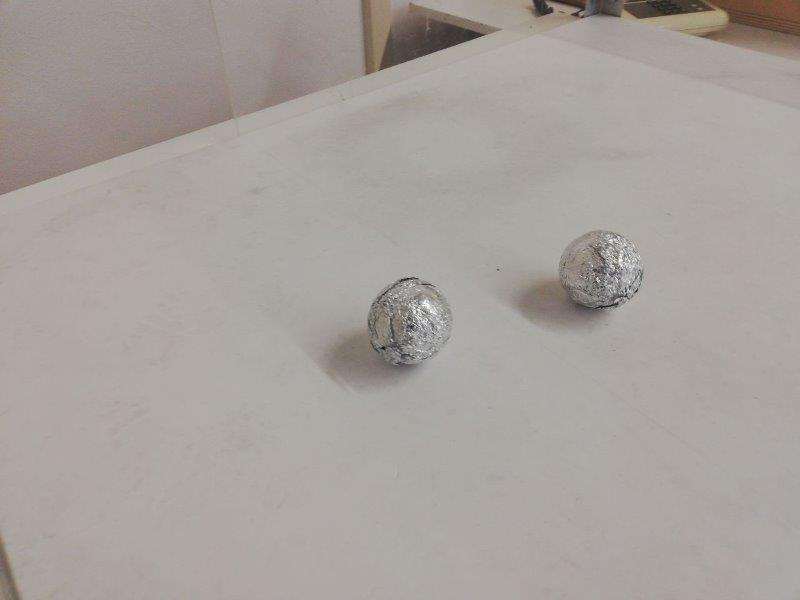bianca: (366, 279, 452, 362), (557, 227, 639, 312)
